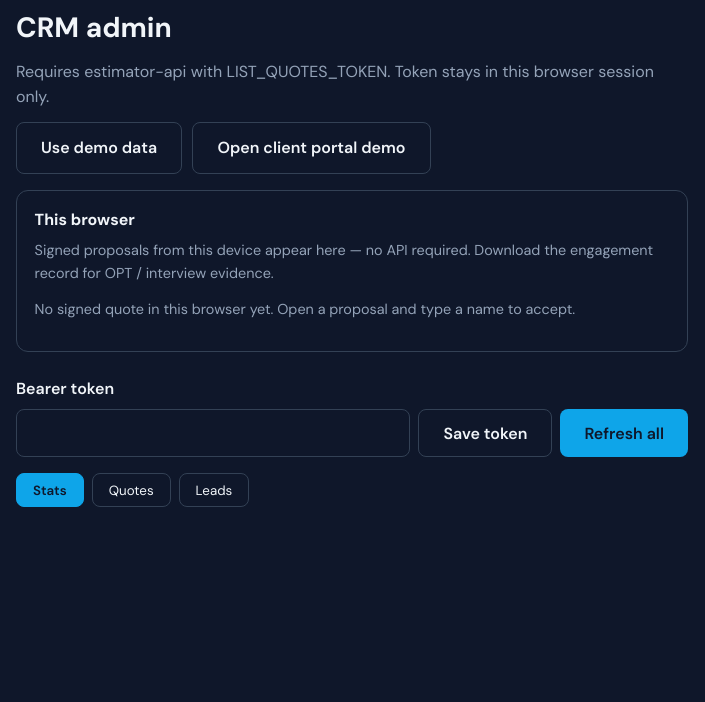
Test: CrmAdmin › shows an empty live pipeline before a token is saved
Click the tab "Quotes" at [131, 490], box [92,474,171,507]
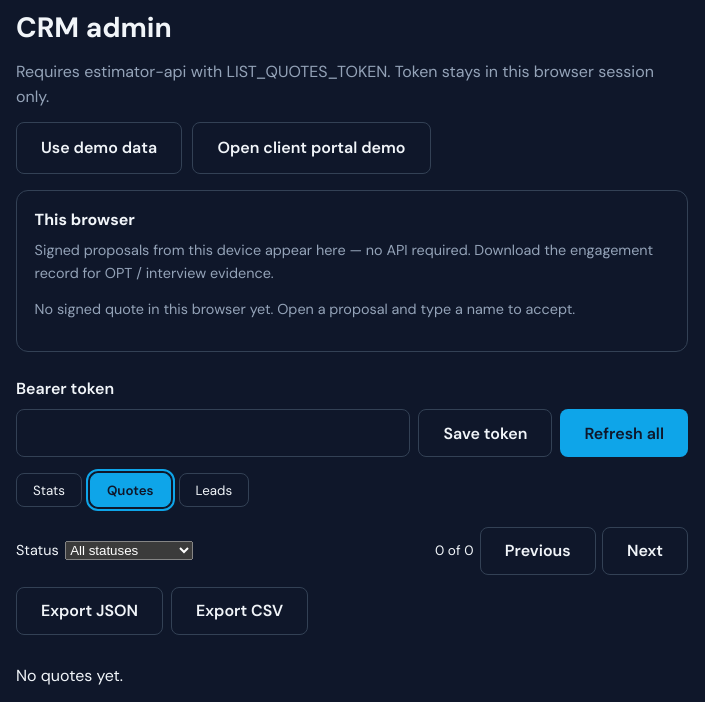
Now the text "No quotes yet." is shown, box [16,665,123,686]
Click the tab "Leads" at [214, 490], box [178,474,249,507]
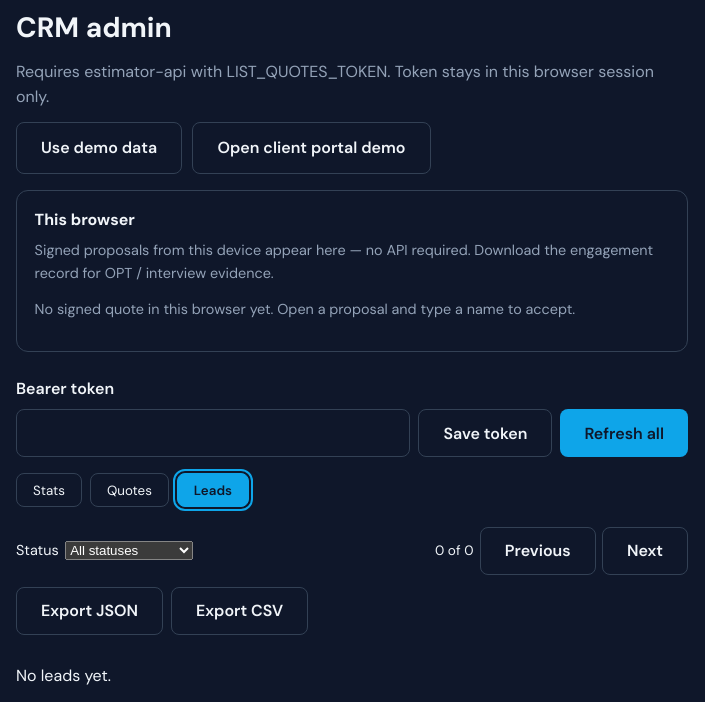
Expected: the button "Refresh all" is disabled, [560,410,688,458]
Now the text "No leads yet." is shown, box [16,665,111,686]
